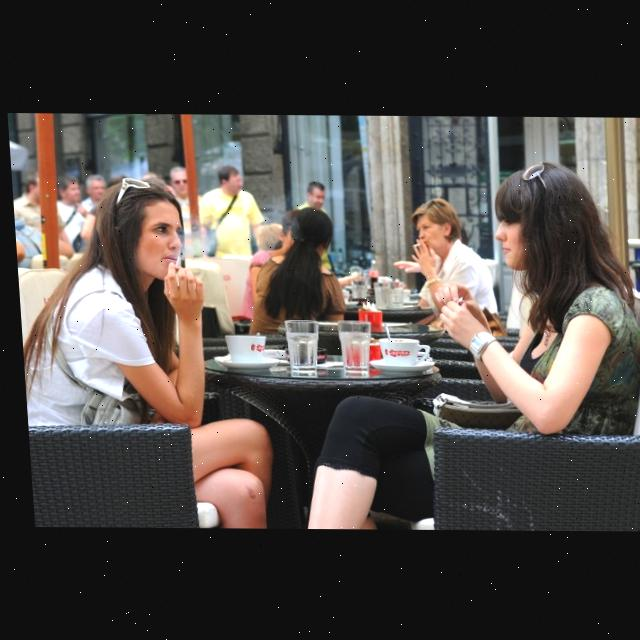cigarette: (171, 252, 180, 274), (409, 244, 419, 247)
